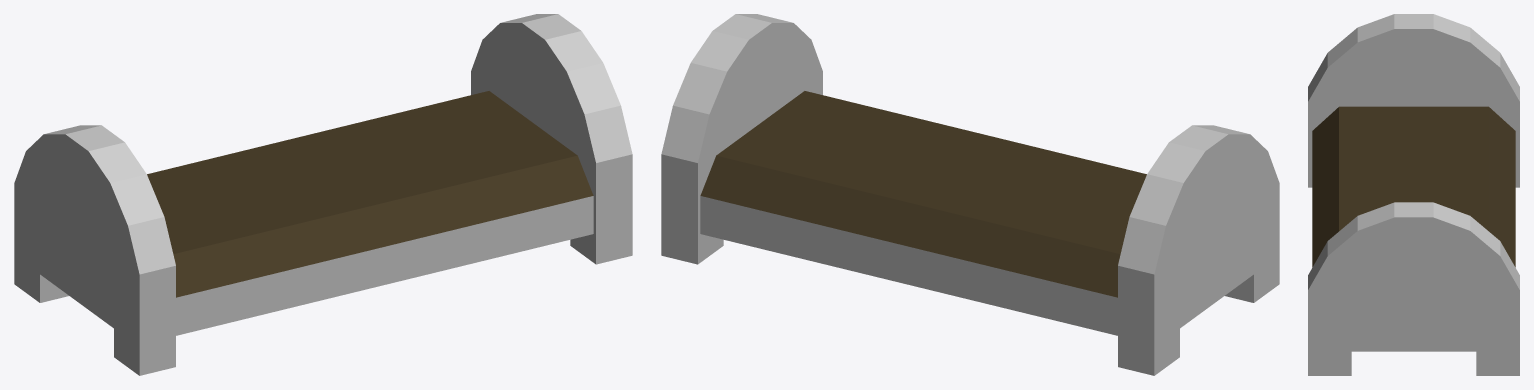
The model's file is BEDHIGH_NW_NORMAL_01.OBJ.
3 views of the same model, side by side, from view 1: azimuth 30°, elevation 25°; view 2: azimuth 150°, elevation 25°; view 3: azimuth 270°, elevation 25° (orthographic). The views are drawn at different scales.
Visible parts, largest first — view 1: BEDHIGH_NW_NORMAL_01; view 2: BEDHIGH_NW_NORMAL_01; view 3: BEDHIGH_NW_NORMAL_01.
Boxes of the visible parts, x1,y1,x2,y2 form: BEDHIGH_NW_NORMAL_01: (14,14,632,375); BEDHIGH_NW_NORMAL_01: (661,14,1279,375); BEDHIGH_NW_NORMAL_01: (1308,14,1519,375).
Size of the model in its own units: 2.7 by 0.9807 by 1.19.
